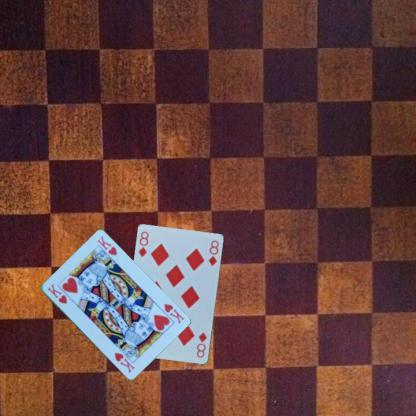8d: (136, 228, 150, 258), (194, 330, 208, 359)
Kh: (162, 300, 186, 326), (45, 281, 68, 305)
